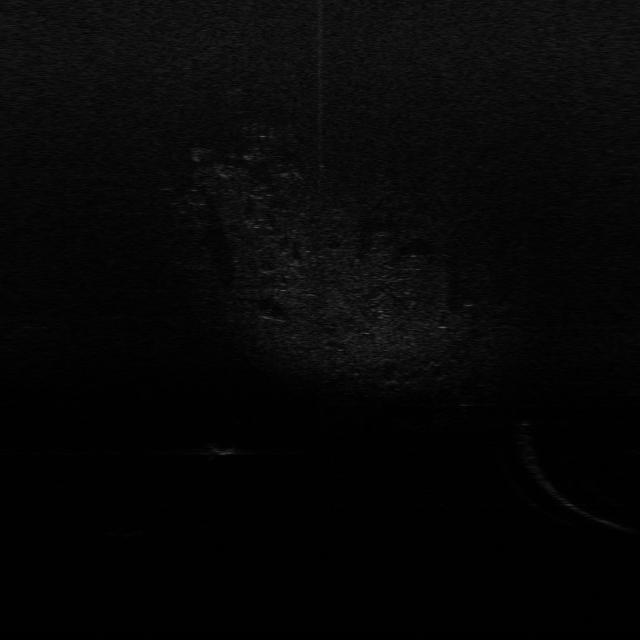square cage: (202, 436, 247, 459)
